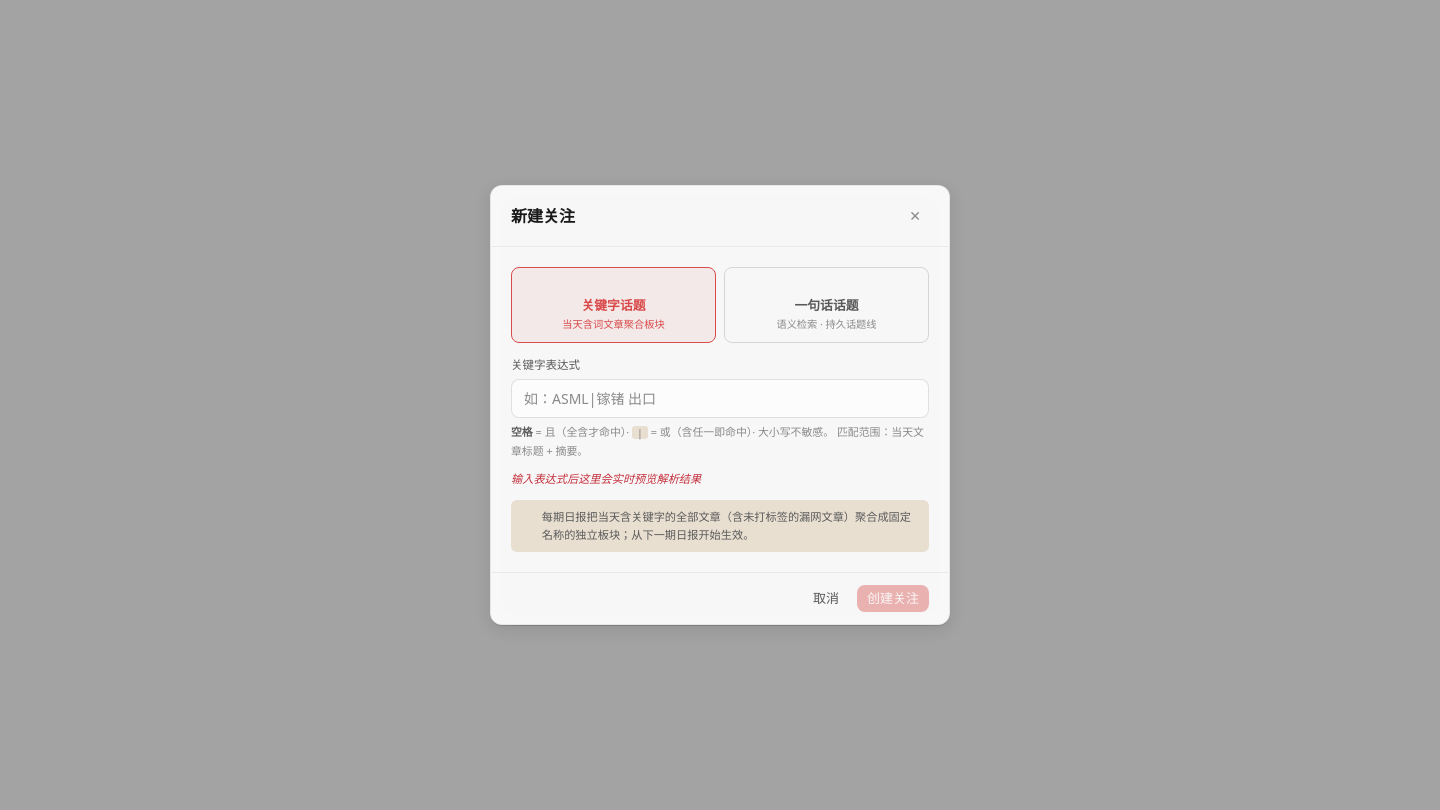
Test case: TopicWatchCreateDialog — 类型双选（物化轨） › 切换类型清空错误提示（不残留上次的提交错误）
Click the radio button with test id "watch-type-sentence_topic" at coordinates (826, 305), box [724,267,929,343]
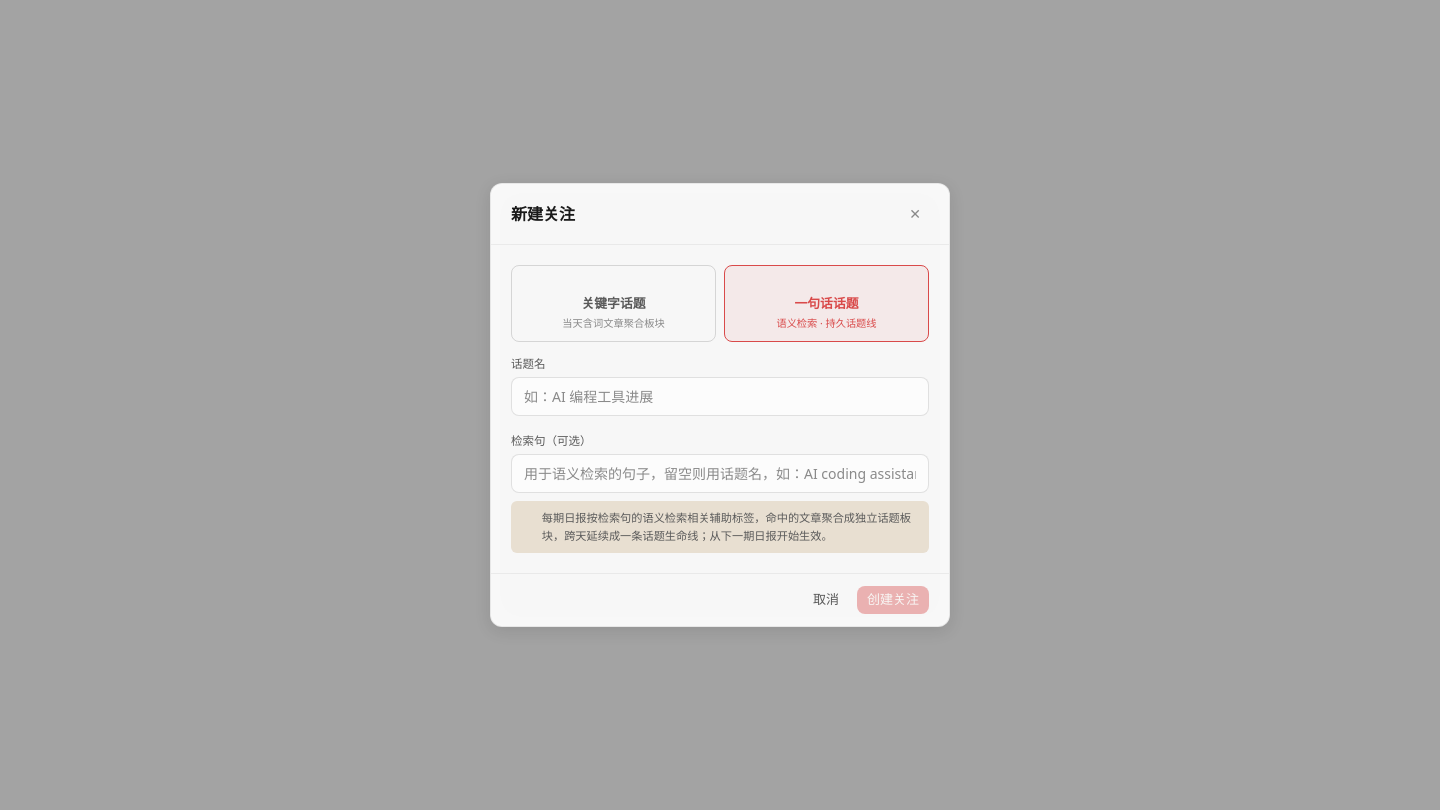
Type "先输入" into the field with placeholder "如：AI 编程工具进展" at coordinates (720, 397), box [511,377,929,416]
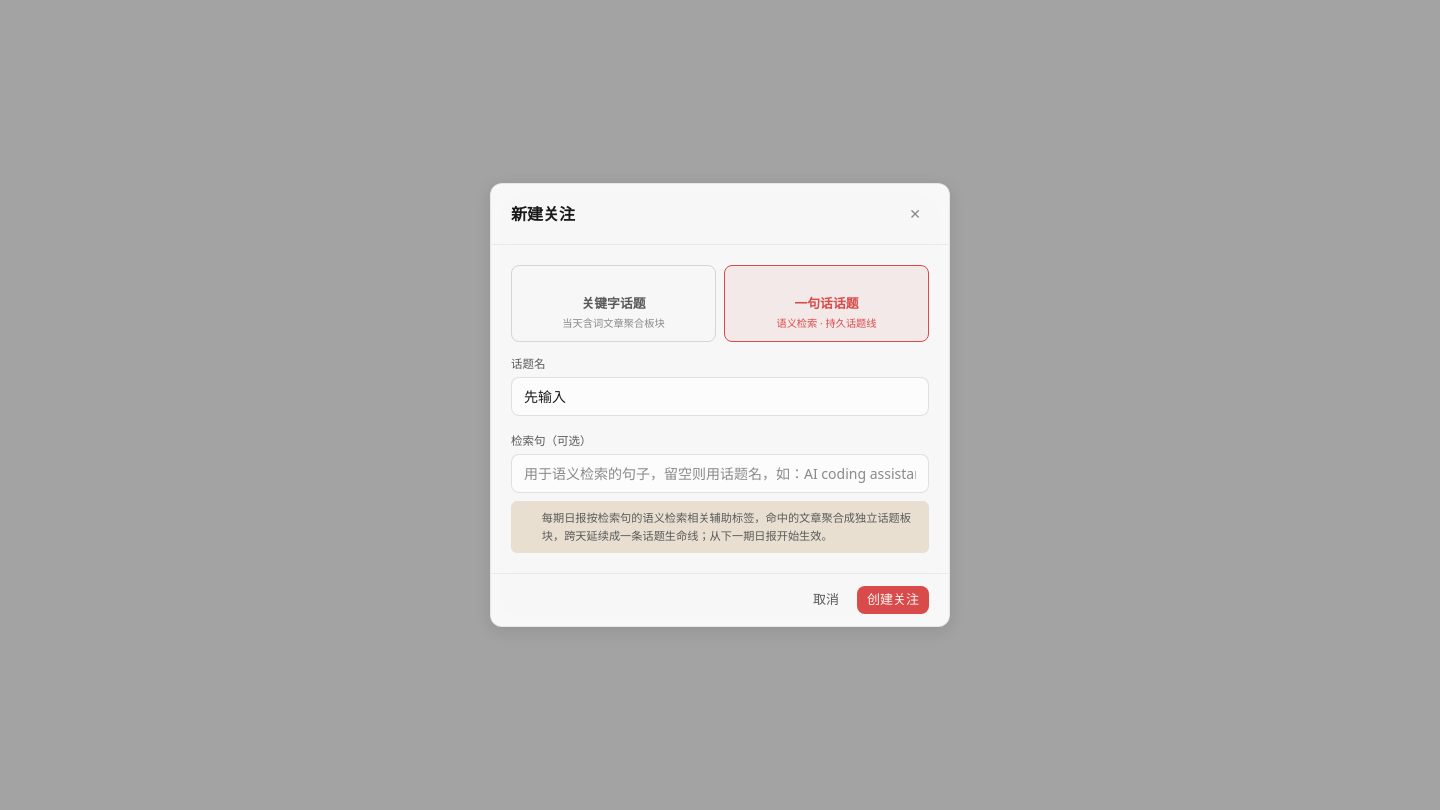
Clear the 1st field at coordinates (720, 397), box [511,377,929,416]
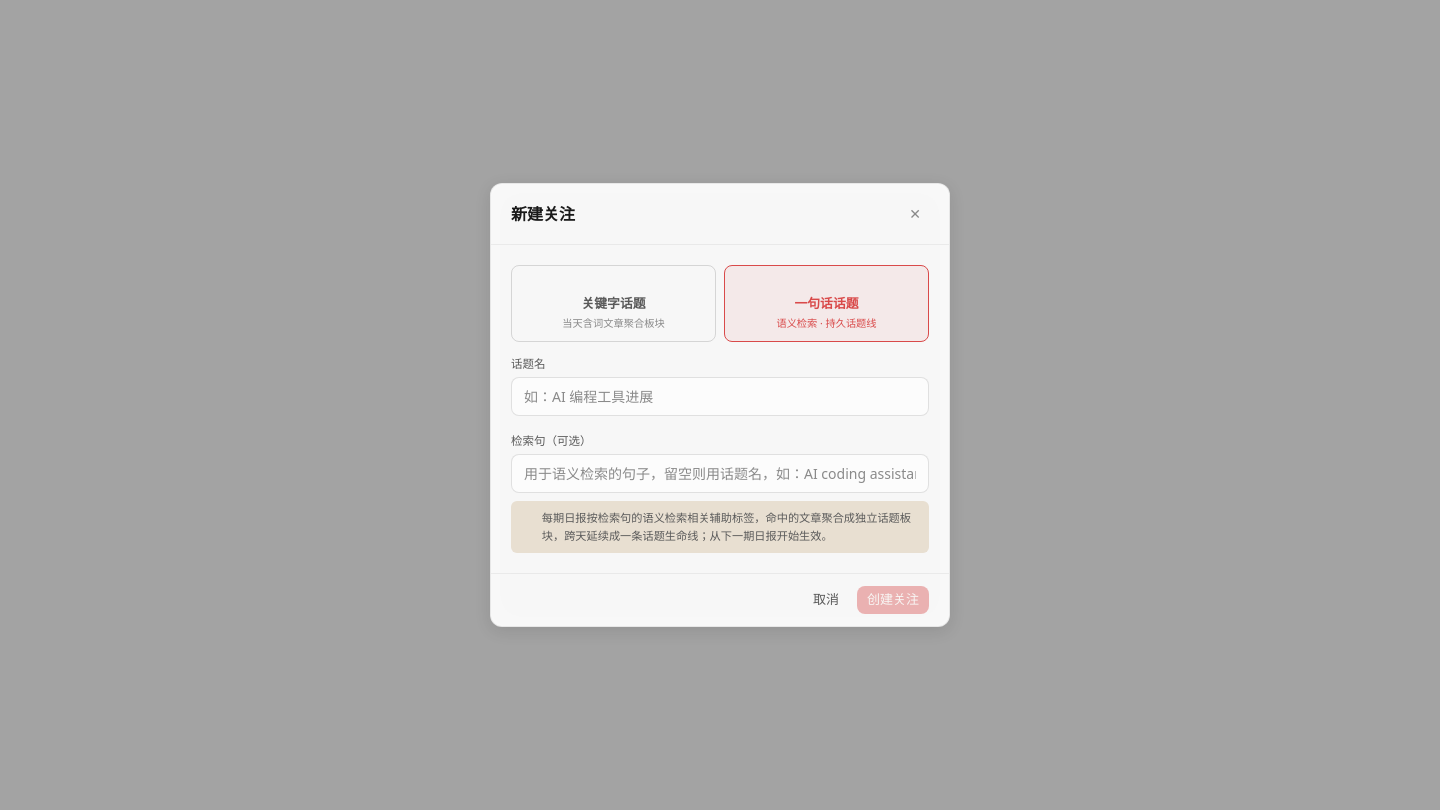
Press Enter in the field with placeholder "如：AI 编程工具进展", box [511,377,929,416]
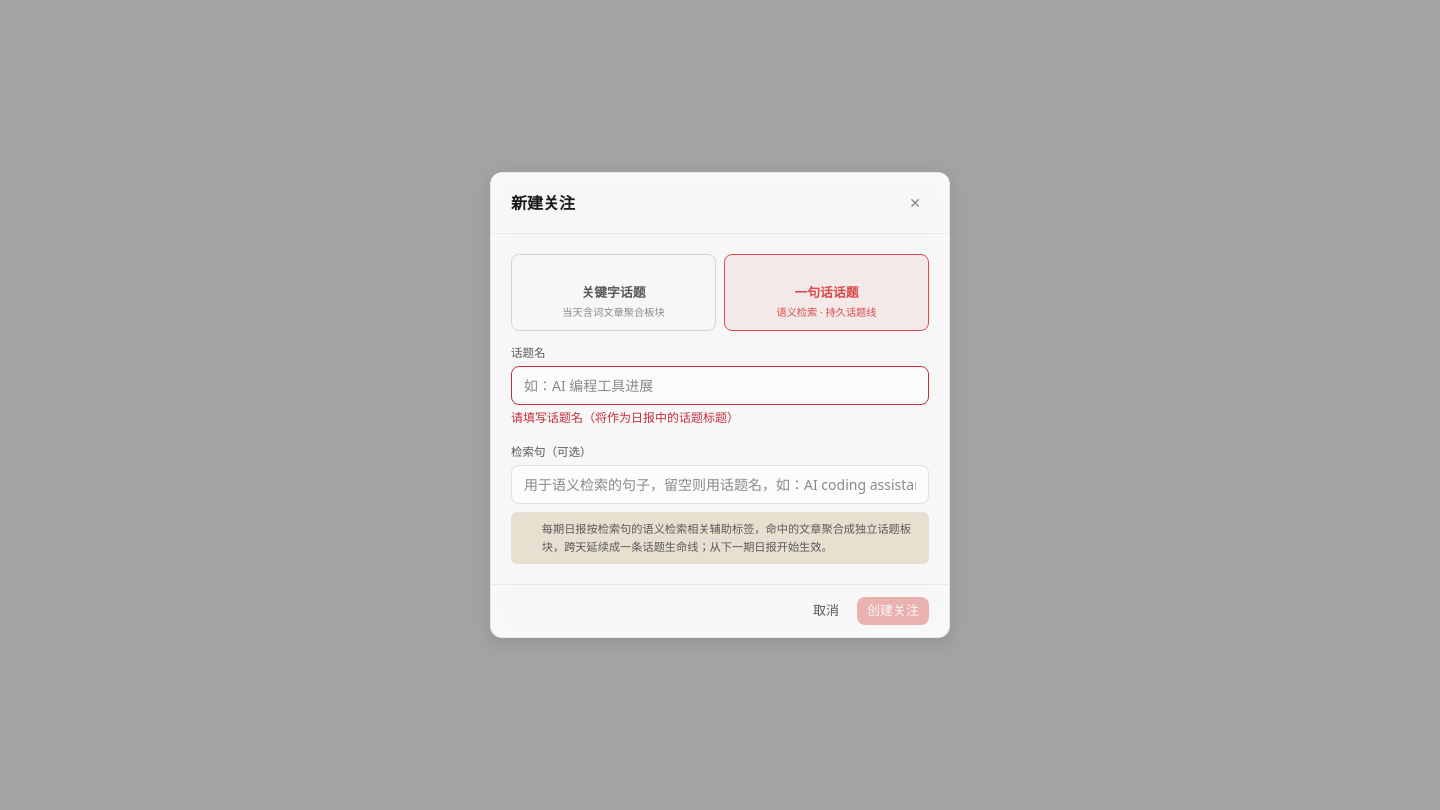
expect the element with class "app-dialog" shows "请填写话题名": met, box [511,409,739,426]
Click the radio button with test id "watch-type-keyword_topic" at coordinates (614, 292), box [511,254,716,331]
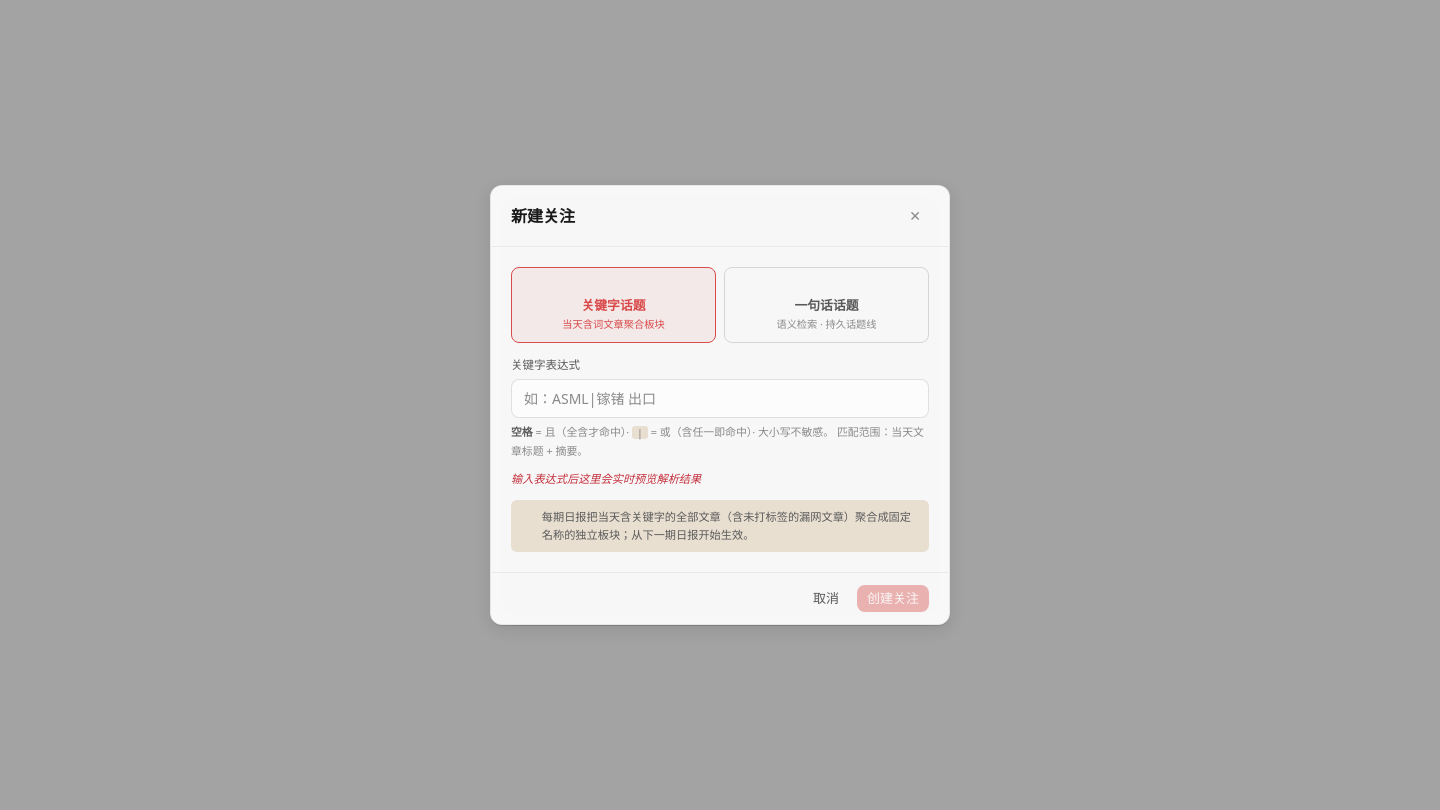
expect the text with class "app-dialog" no longer shows "请填写话题名": met
